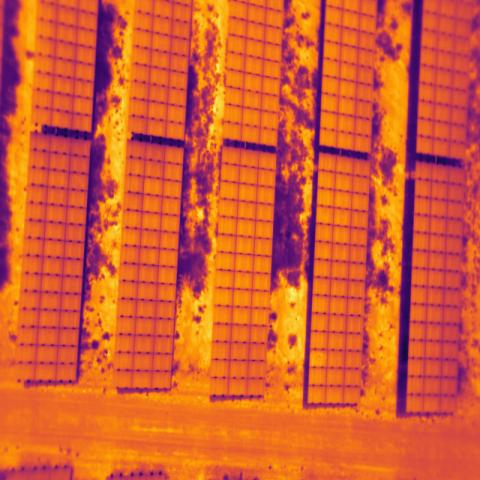fault: (308, 348, 328, 367)
